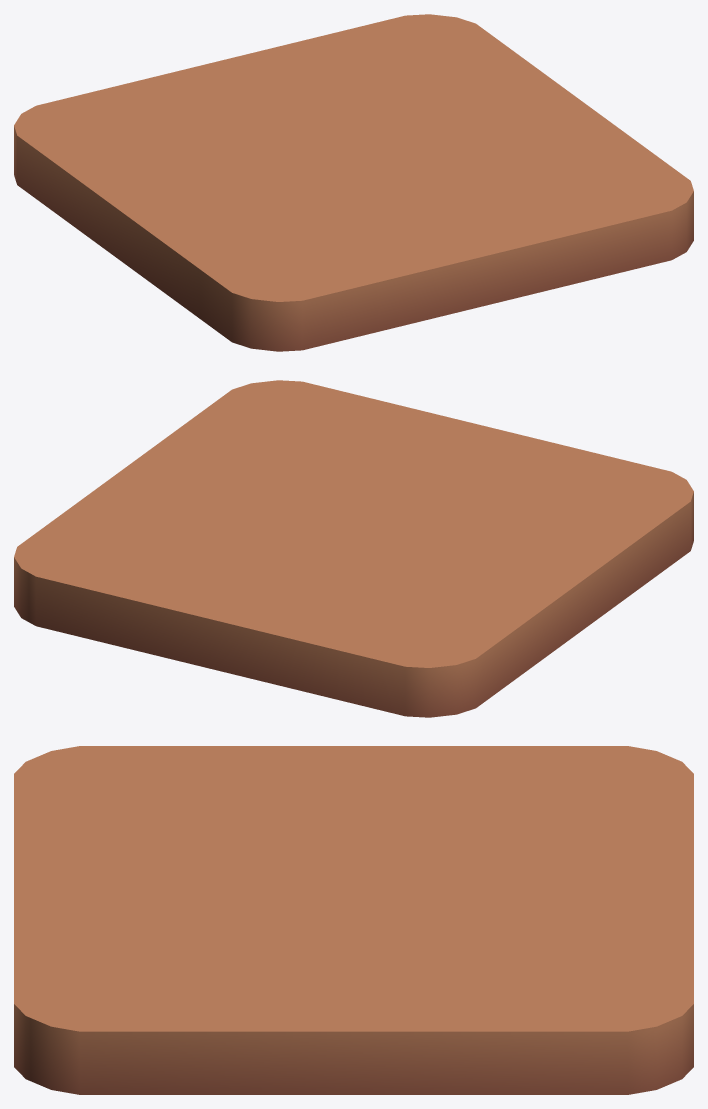
3 renders of one model, top to bottom at view 1: azimuth 30°, elevation 25°; view 2: azimuth 150°, elevation 25°; view 3: azimuth 270°, elevation 25°, orthographic. The views are drawn at different scales.
Visible parts, largest first — view 1: Cube.002; view 2: Cube.002; view 3: Cube.002.
Boxes of the visible parts, left/top/right/bottom form: Cube.002: left=14, top=14, right=693, bottom=351; Cube.002: left=14, top=380, right=693, bottom=717; Cube.002: left=14, top=746, right=693, bottom=1094.
Size of the model in its own units: 4 by 0.4131 by 4.02.
1 material, 1 textured.
